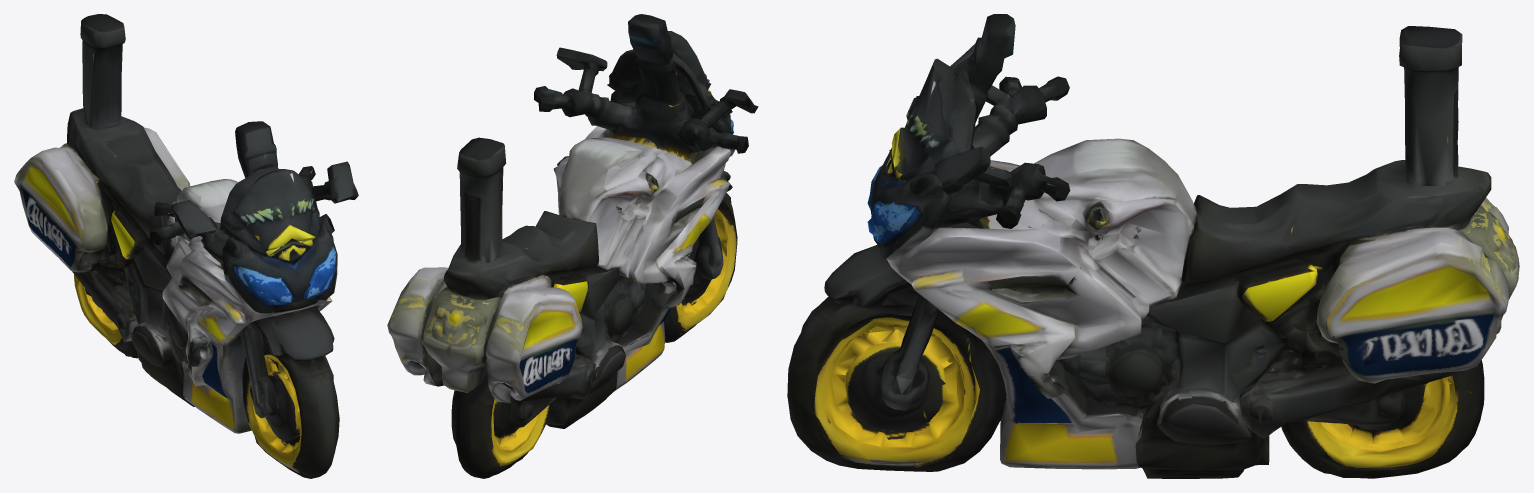
Rendered from motorrad.glb.
3 views of the same model, side by side, from view 1: azimuth 30°, elevation 25°; view 2: azimuth 150°, elevation 25°; view 3: azimuth 270°, elevation 25° (orthographic). The views are drawn at different scales.
Parts seen in each view (by area): view 1: motorrad; view 2: motorrad; view 3: motorrad.
Boxes of the visible parts, x1,y1,x2,y2 form: motorrad: (14, 14, 358, 478); motorrad: (387, 14, 758, 478); motorrad: (787, 14, 1519, 478).
Size of the model in its own units: 0.5689 by 0.8926 by 1.3.
Materials: 1 (1 with a texture image).
